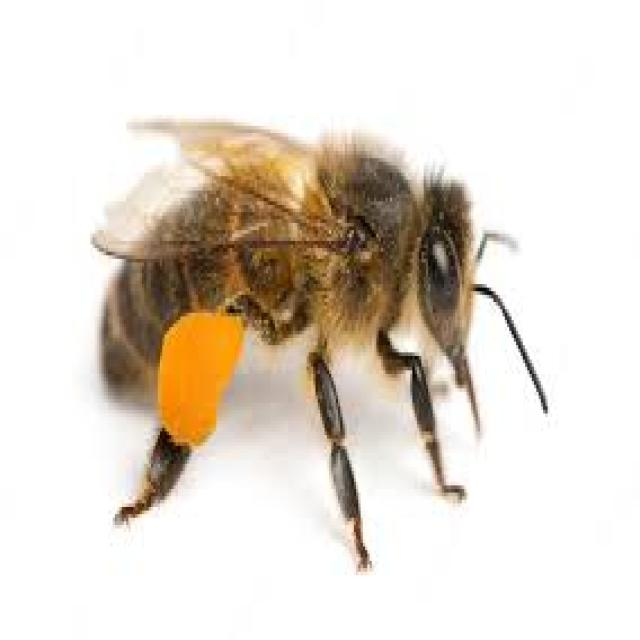Bees: (86, 106, 556, 583)
